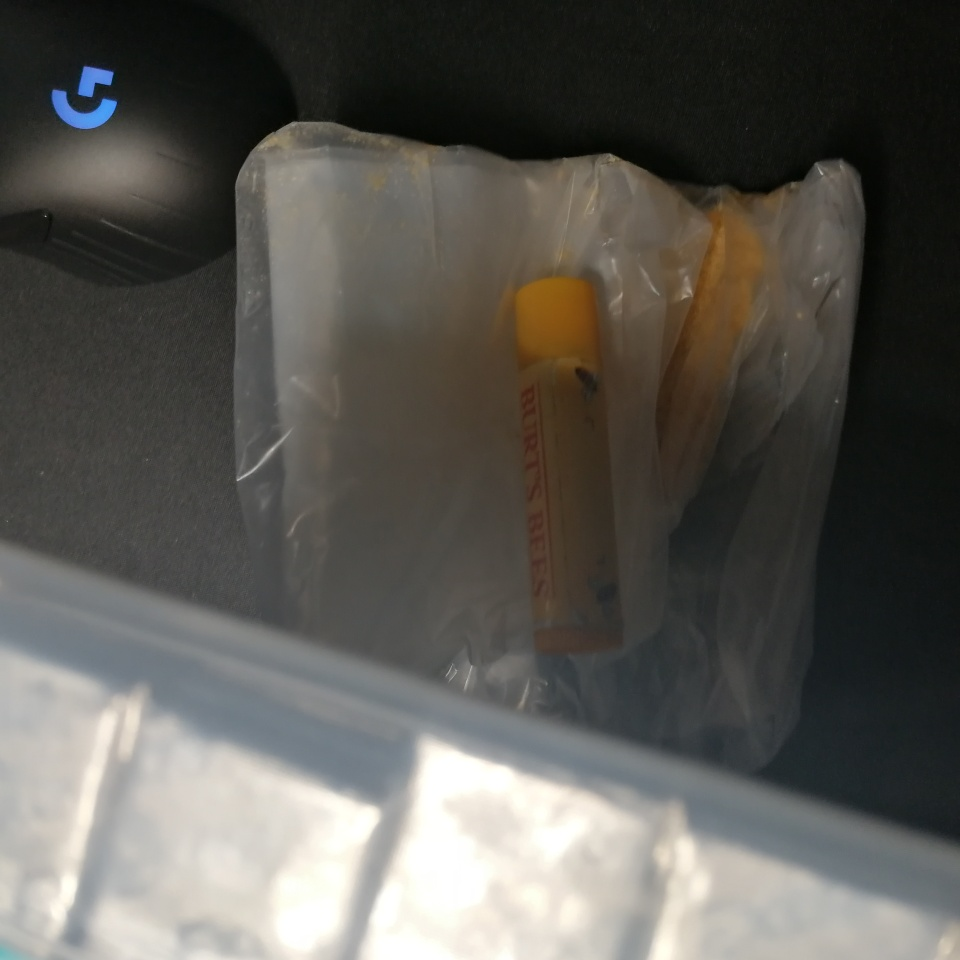chapstick: (515, 277, 629, 656)
